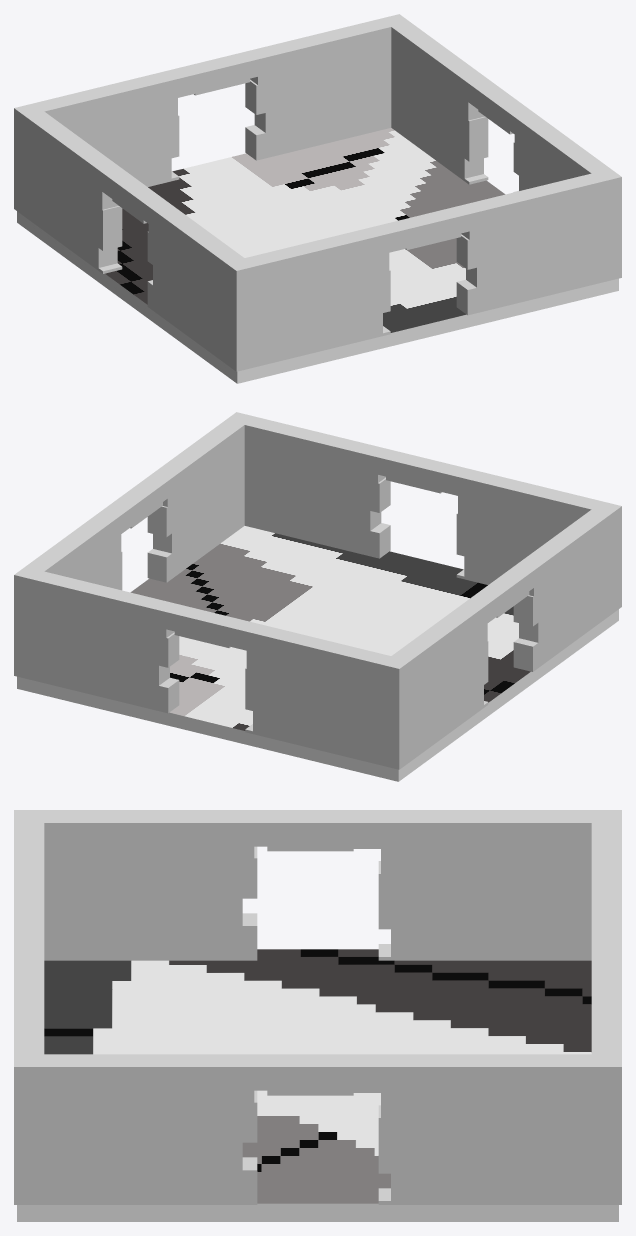
File: HubV1.fbx
The picture shows the model from 3 angles, top to bottom: view 1: azimuth 30°, elevation 25°; view 2: azimuth 150°, elevation 25°; view 3: azimuth 270°, elevation 25°; orthographic projection. The views are drawn at different scales.
Visible parts, largest first — view 1: Walls, Floor; view 2: Walls, Floor; view 3: Walls, Floor.
Part boxes in pixels (x1,y1,x2,y2): Walls: (14, 14, 621, 371); Floor: (17, 128, 618, 383); Walls: (14, 412, 621, 769); Floor: (17, 526, 618, 781); Walls: (14, 810, 621, 1204); Floor: (17, 949, 618, 1221).
Bounding box in the file's own units: 5000 × 1416 × 5000.
